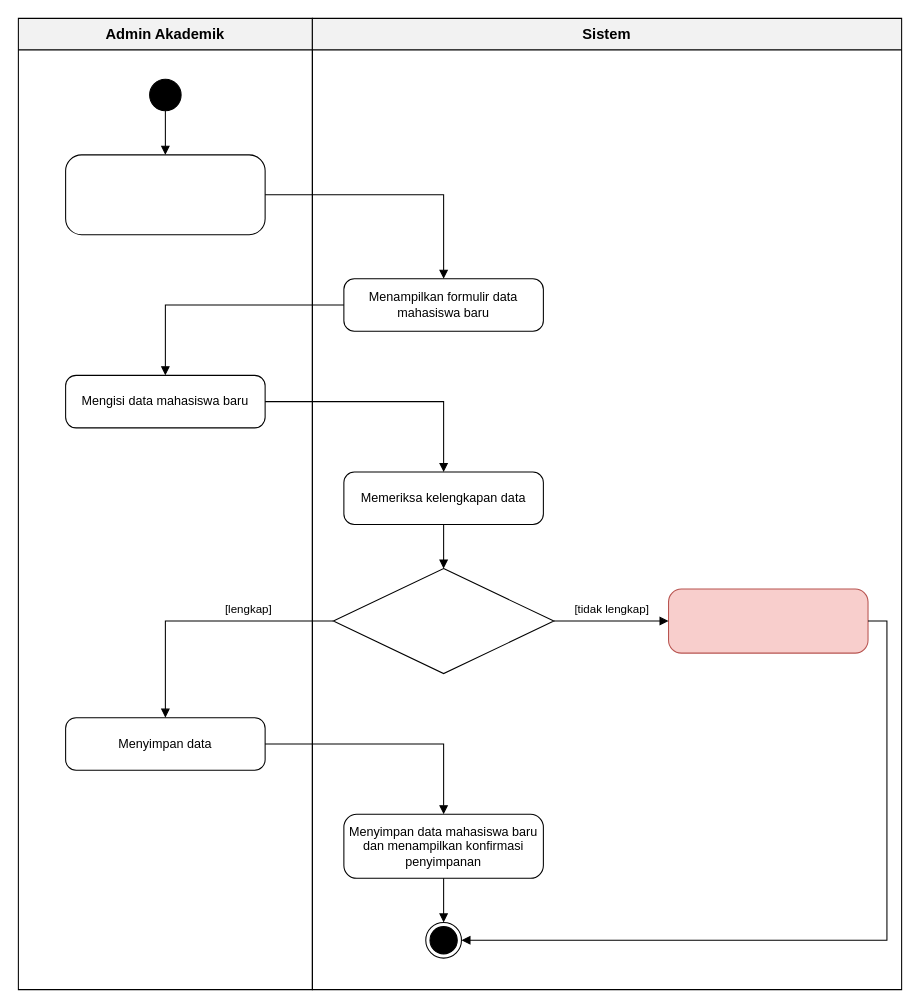
This 921x1008 diagram has some shape labels left out. Each missing label, with the centre of its shape:
"Data lengkap?" goes at [443,621].
"Memilih bentuk pengelolaan tambah (langkah bersama SIA-UC10 langkah 1 sampai 3)" goes at [165,194].
"Menolak penyimpanan dan meminta Admin Akademik melengkapi data" goes at [767,620].
